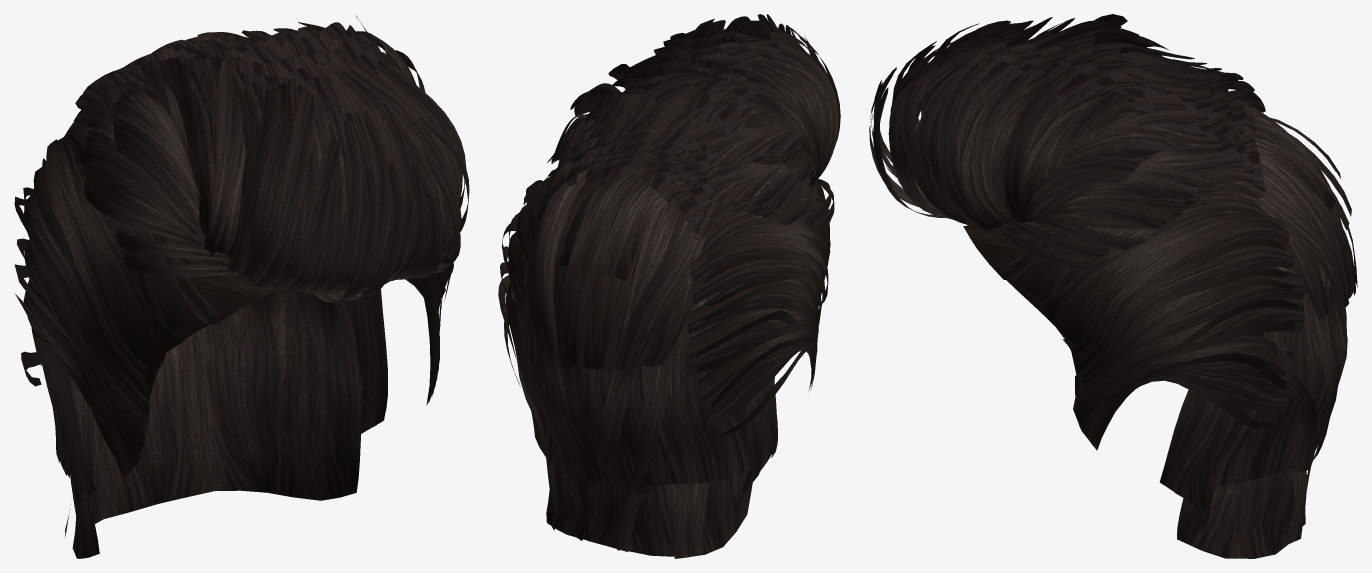
File: Hair3.glb
3 views of the same model, side by side, from view 1: azimuth 30°, elevation 25°; view 2: azimuth 150°, elevation 25°; view 3: azimuth 270°, elevation 25° (orthographic). The views are drawn at different scales.
Visible parts, largest first — view 1: Armani_20393; view 2: Armani_20393; view 3: Armani_20393.
Boxes of the visible parts, x1,y1,x2,y2 form: Armani_20393: [14, 15, 469, 558]; Armani_20393: [498, 14, 840, 558]; Armani_20393: [869, 14, 1357, 558].
Size of the model in its own units: 3.48 by 5.01 by 4.66.
6 materials, 6 textured.
